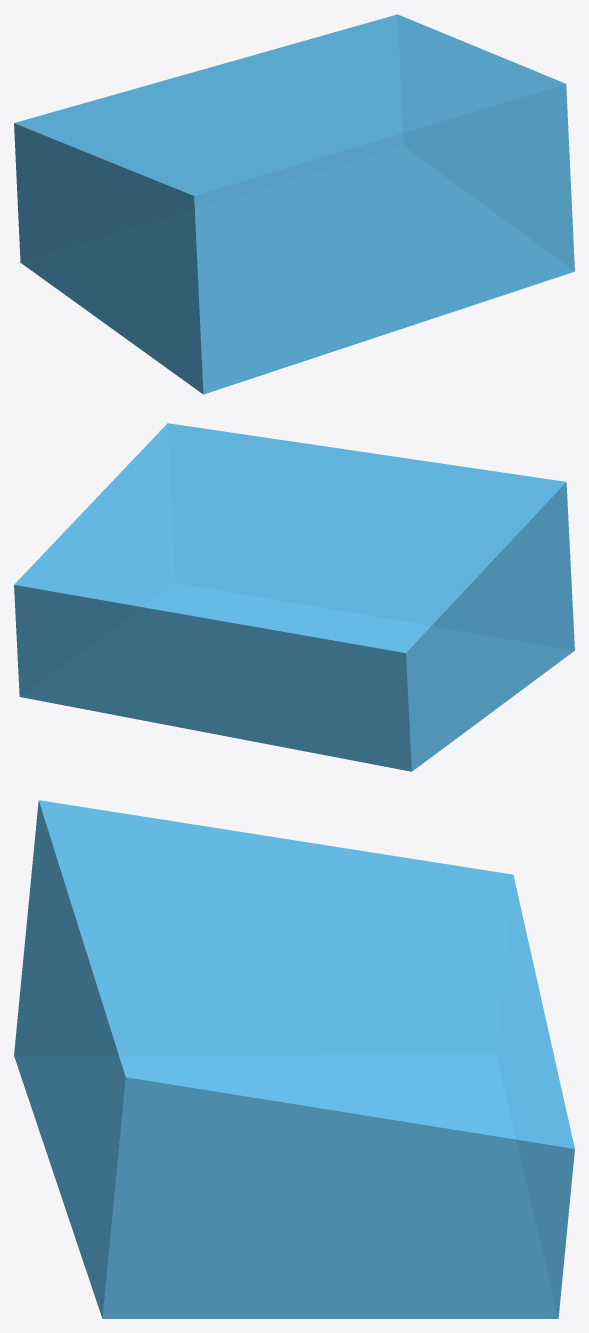
File: Event_421115418_HErechit_108.fbx
3 views of the same model, one above another, from view 1: azimuth 30°, elevation 25°; view 2: azimuth 150°, elevation 25°; view 3: azimuth 270°, elevation 25° (orthographic). The views are drawn at different scales.
Visible parts, largest first — view 1: Model; view 2: Model; view 3: Model.
Part boxes in pixels (bbox=[...]): Model: bbox=[14, 14, 574, 394]; Model: bbox=[14, 423, 574, 771]; Model: bbox=[14, 800, 574, 1318].
Bounding box in the file's own units: 0.6413 × 0.2889 × 0.5748.
